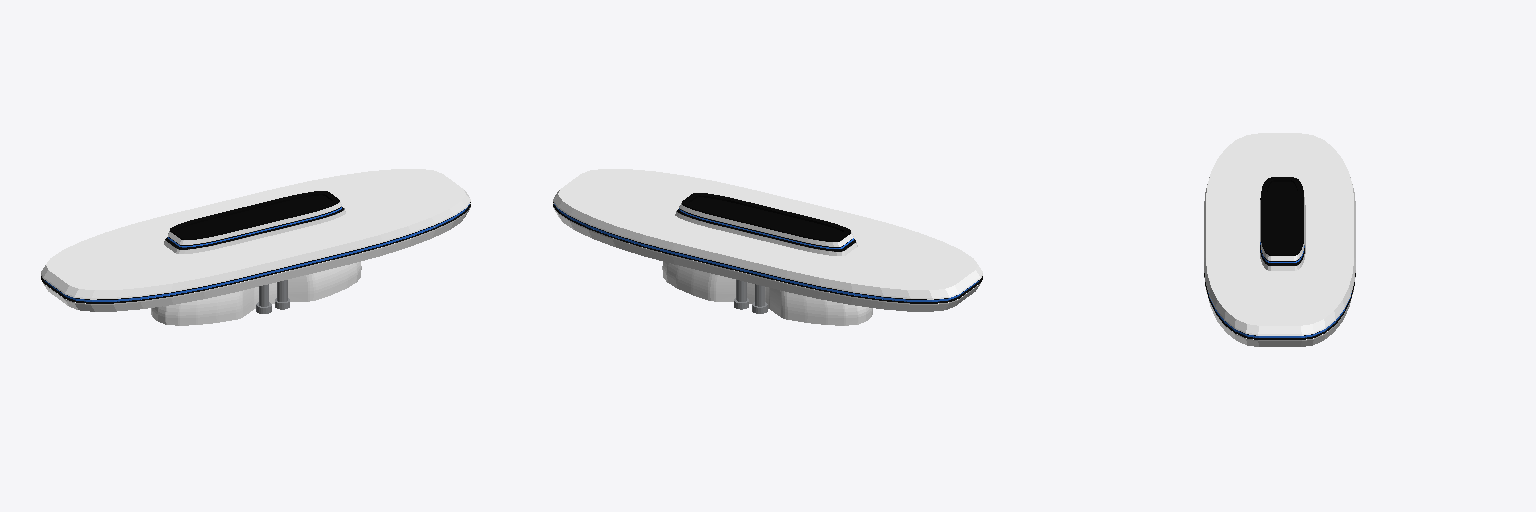
3 renders of one model, left to right at view 1: azimuth 30°, elevation 25°; view 2: azimuth 150°, elevation 25°; view 3: azimuth 270°, elevation 25°, orthographic.
Visible parts, largest first — view 1: Stolik.NR1.001_Cube.036; view 2: Stolik.NR1.001_Cube.036; view 3: Stolik.NR1.001_Cube.036.
Boxes of the visible parts, <box> form: Stolik.NR1.001_Cube.036: <box>41,169,470,325</box>; Stolik.NR1.001_Cube.036: <box>553,169,982,325</box>; Stolik.NR1.001_Cube.036: <box>1204,133,1355,346</box>.
Size of the model in its own units: 19.68 by 3.72 by 6.42.
1 materials, 1 textured.